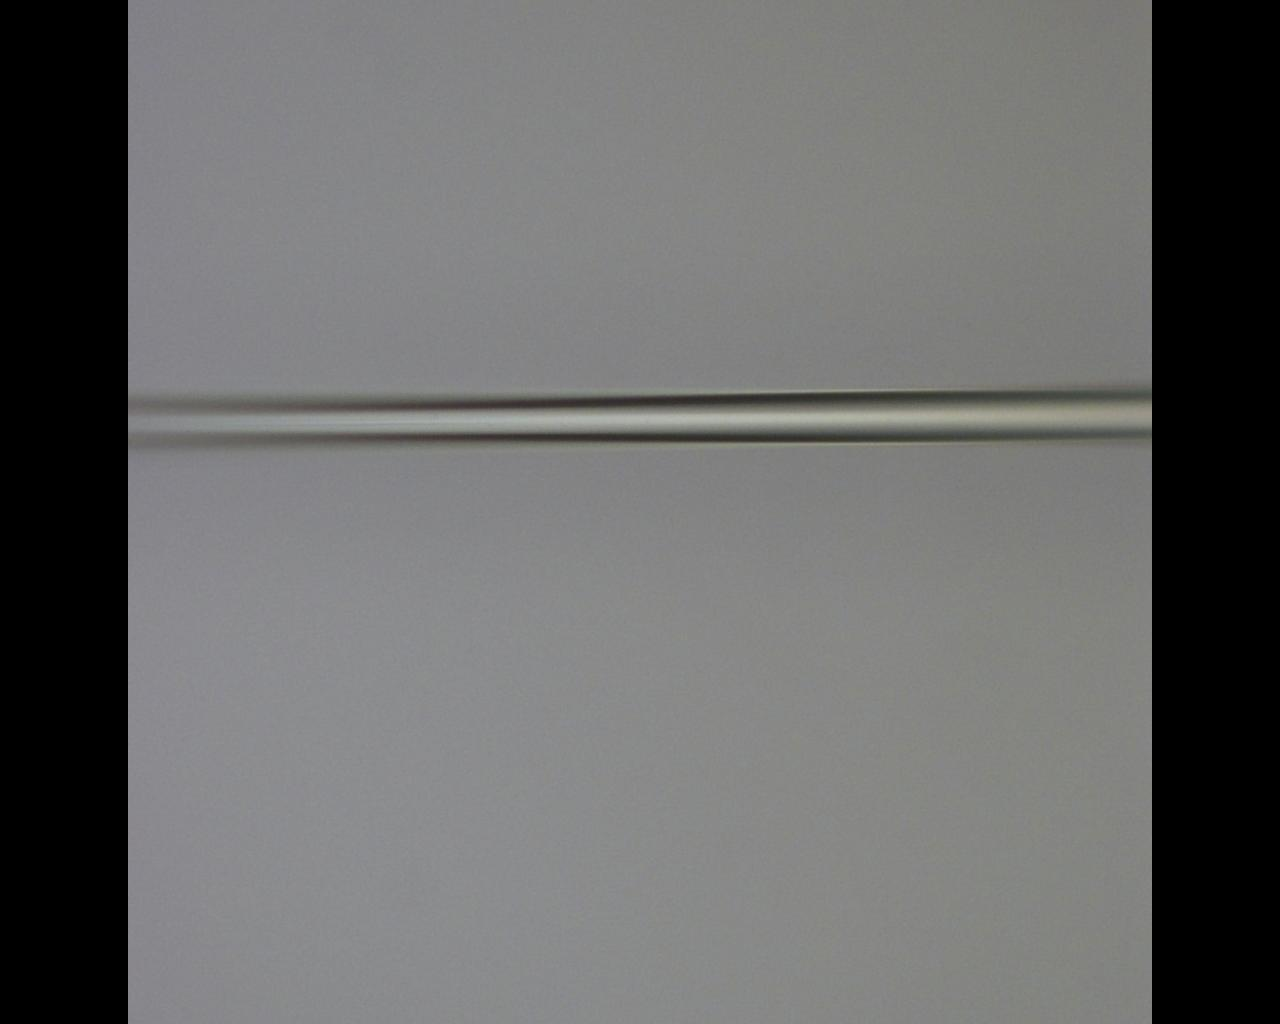fiber: (0, 573, 393, 1024), (525, 0, 566, 573)
